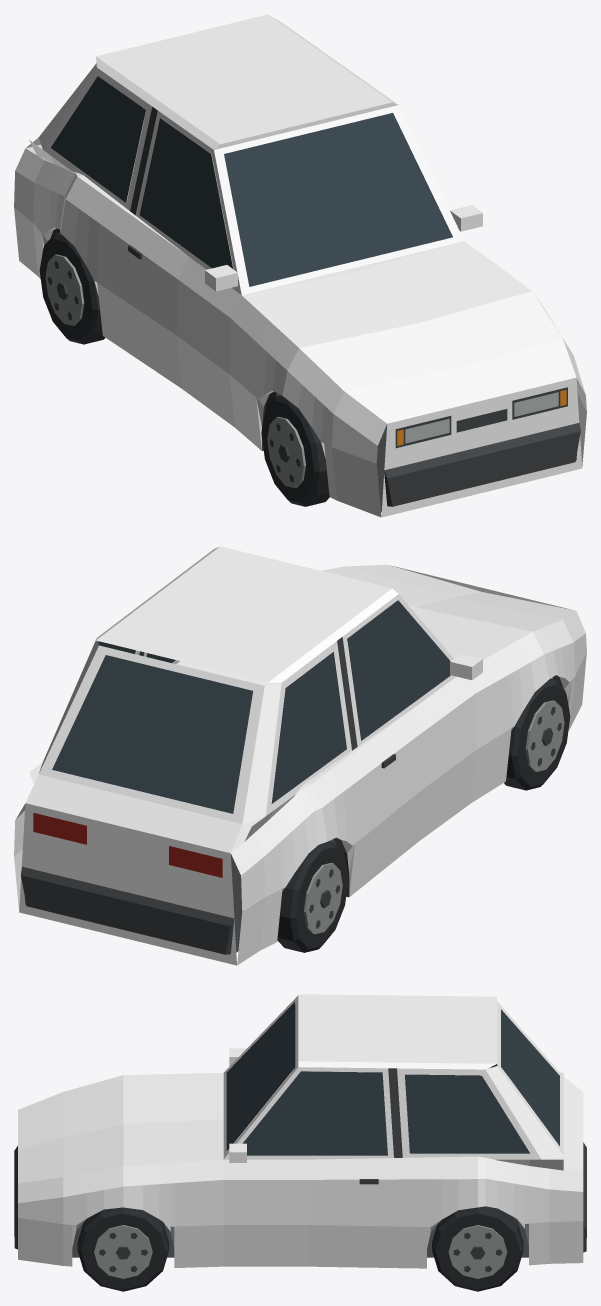
File: hartwig_graupel_s.glb
The picture shows the model from 3 angles, top to bottom: view 1: azimuth 30°, elevation 25°; view 2: azimuth 150°, elevation 25°; view 3: azimuth 270°, elevation 25°; orthographic projection. The views are drawn at different scales.
Parts seen in each view (by area): view 1: hartwig_graupel_s; view 2: hartwig_graupel_s; view 3: hartwig_graupel_s.
Boxes of the visible parts, x1,y1,x2,y2 form: hartwig_graupel_s: (14,14,586,517); hartwig_graupel_s: (14,546,586,965); hartwig_graupel_s: (14,994,586,1291).
Size of the model in its own units: 1.68 by 1.62 by 3.91.
8 materials, 1 textured.
